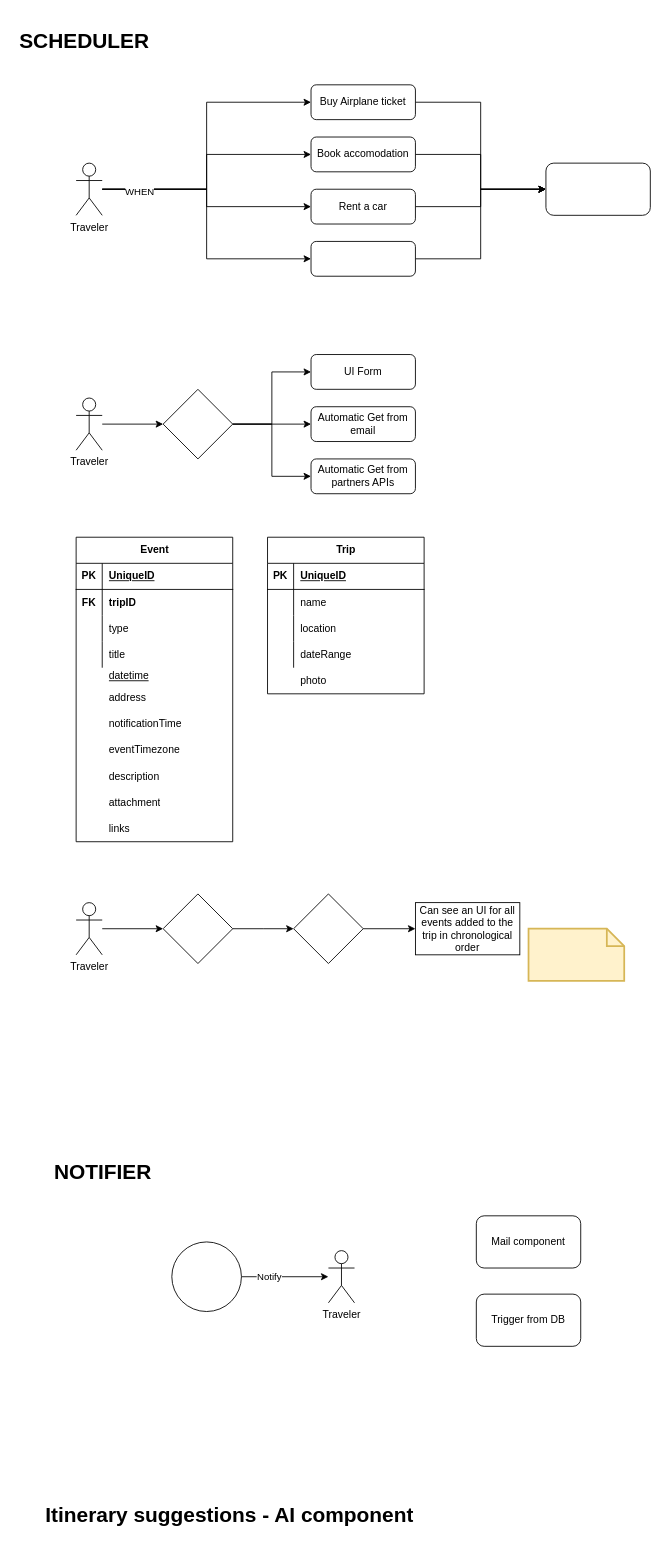
This 666x1556 diagram has some shape labels left out. The shapes that lost their labels are listed below. From the top down, each one's centre as x and y in pixels, then its label:
At pixel 597 188: "Add event (schedule)".
At pixel 362 258: "Buy ticket to an event".
At pixel 197 423: "Add event".
At pixel 197 928: "Add trip".
At pixel 328 928: "Add events".
At pixel 576 954: "inspire in week view from google calendar".
At pixel 206 1276: "Event is in T-x".
